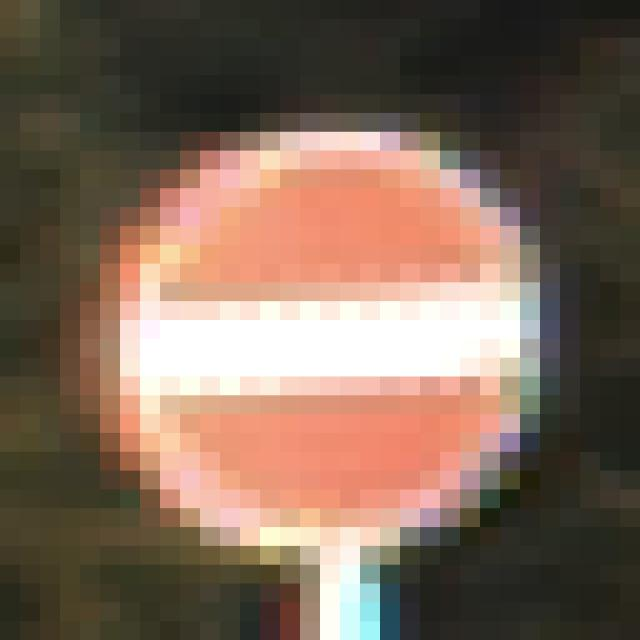No Entry: (101, 114, 541, 547)
